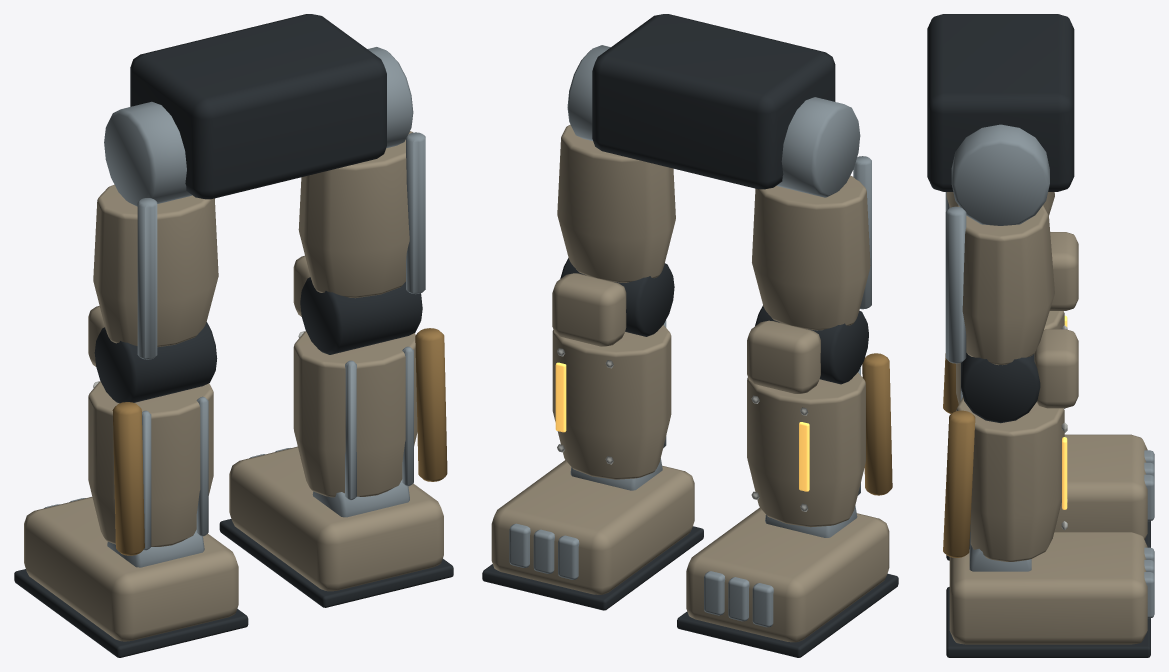
Rendered from legs_06.glb.
3 views of the same model, side by side, from view 1: azimuth 30°, elevation 25°; view 2: azimuth 150°, elevation 25°; view 3: azimuth 270°, elevation 25° (orthographic). The views are drawn at different scales.
Parts seen in each view (by area): view 1: RightShin.005_Geometry, LeftShin.005_Geometry, Pelvic carrier.005, LeftThigh.005_Geometry, RightThigh.005_Geometry; view 2: LeftShin.005_Geometry, RightShin.005_Geometry, Pelvic carrier.005, LeftThigh.005_Geometry, RightThigh.005_Geometry; view 3: RightShin.005_Geometry, RightThigh.005_Geometry, Pelvic carrier.005, LeftShin.005_Geometry, LeftThigh.005_Geometry.
Boxes of the visible parts, box(x1,y1,x2,y2) form: RightShin.005_Geometry: box(219, 255, 453, 607); LeftShin.005_Geometry: box(14, 306, 248, 657); Pelvic carrier.005: box(130, 14, 386, 199); LeftThigh.005_Geometry: box(93, 101, 218, 359); RightThigh.005_Geometry: box(298, 47, 425, 298); LeftShin.005_Geometry: box(677, 305, 898, 657); RightShin.005_Geometry: box(482, 258, 703, 610); Pelvic carrier.005: box(592, 14, 835, 189); LeftThigh.005_Geometry: box(752, 97, 871, 330); RightThigh.005_Geometry: box(557, 45, 675, 282); RightShin.005_Geometry: box(943, 329, 1154, 657); RightThigh.005_Geometry: box(945, 124, 1054, 365); Pelvic carrier.005: box(927, 14, 1074, 191); LeftShin.005_Geometry: box(943, 232, 1154, 560); LeftThigh.005_Geometry: box(945, 192, 1054, 215).
Bounding box in the file's own units: 0.59 × 0.908 × 0.356.
